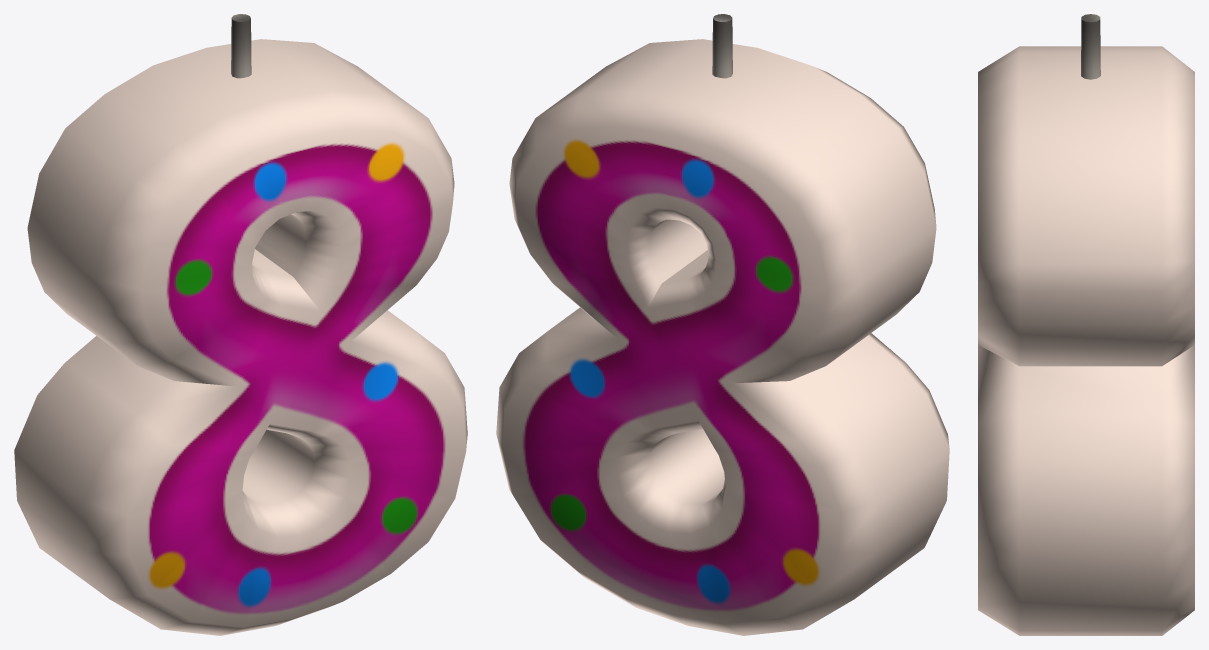
File: Candle_8.fbx
3 views of the same model, side by side, from view 1: azimuth 30°, elevation 25°; view 2: azimuth 150°, elevation 25°; view 3: azimuth 270°, elevation 25° (orthographic).
Visible parts, largest first — view 1: Candle_8; view 2: Candle_8; view 3: Candle_8.
Boxes of the visible parts, bbox=[...] form: Candle_8: bbox=[14, 14, 467, 635]; Candle_8: bbox=[496, 14, 949, 635]; Candle_8: bbox=[978, 14, 1194, 635].
Size of the model in its own units: 21.03 by 30.52 by 10.17.
